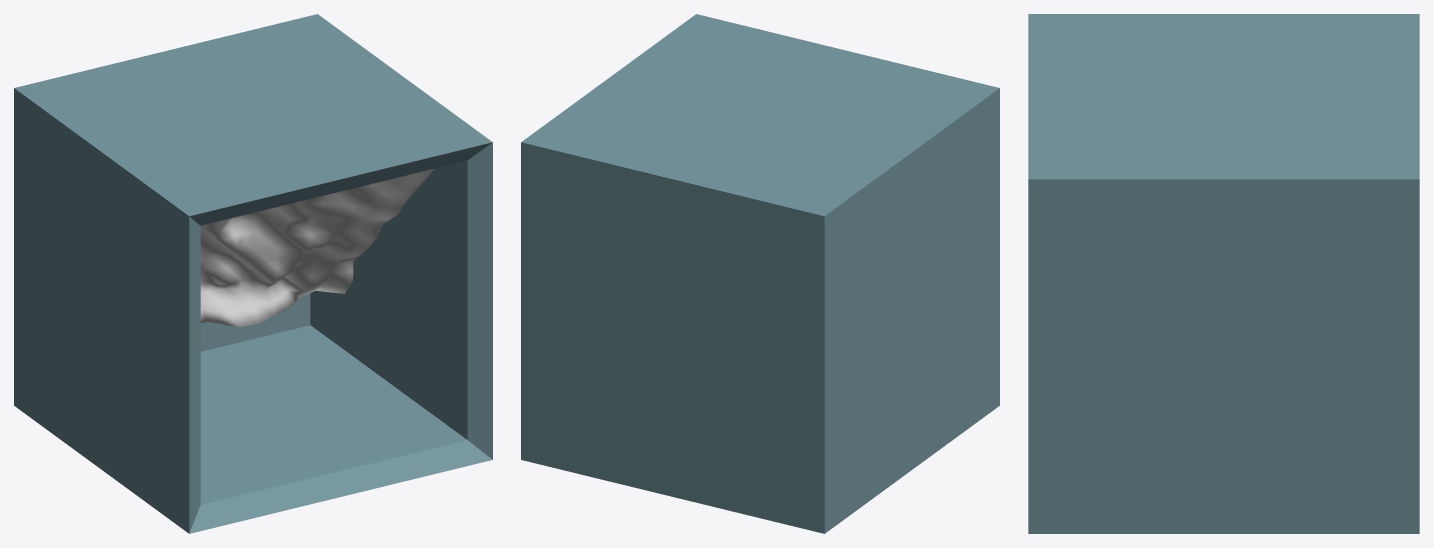
The model's file is demo_scene.obj.
The picture shows the model from 3 angles, left to right: view 1: azimuth 30°, elevation 25°; view 2: azimuth 150°, elevation 25°; view 3: azimuth 270°, elevation 25°; orthographic projection. The views are drawn at different scales.
Parts seen in each view (by area): view 1: water_container_water_container_mesh, water_land_water_land_mesh; view 2: water_container_water_container_mesh; view 3: water_container_water_container_mesh.
Boxes of the visible parts, x1,y1,x2,y2 form: water_container_water_container_mesh: (14, 14, 492, 533); water_land_water_land_mesh: (200, 168, 434, 327); water_container_water_container_mesh: (521, 14, 999, 533); water_container_water_container_mesh: (1028, 14, 1419, 533).
Bounding box in the file's own units: 10 × 10 × 10.
